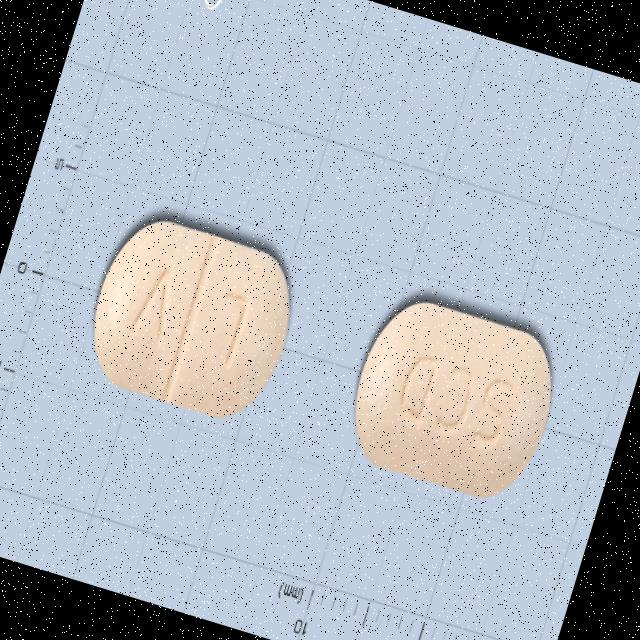Levostar: (334, 288, 568, 511), (74, 208, 308, 430)
